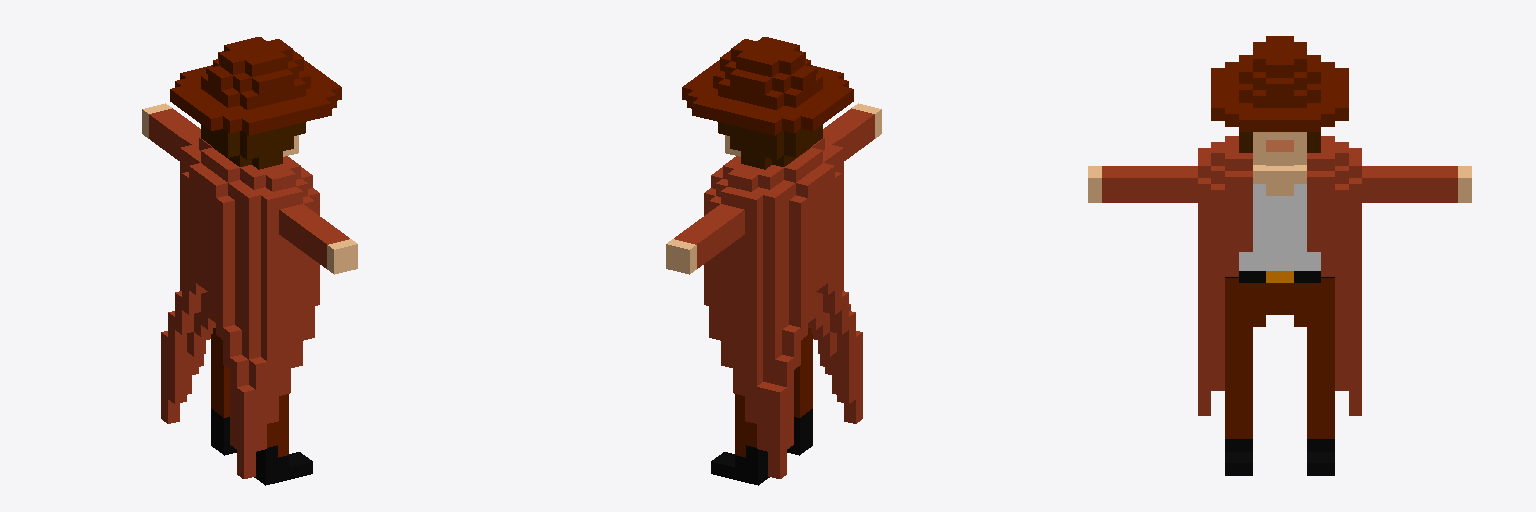
3 views of the same model, side by side, from view 1: azimuth 30°, elevation 25°; view 2: azimuth 150°, elevation 25°; view 3: azimuth 270°, elevation 25° (orthographic).
Size of the model in its own units: 11 by 33 by 28.
Materials: 1 (1 with a texture image).